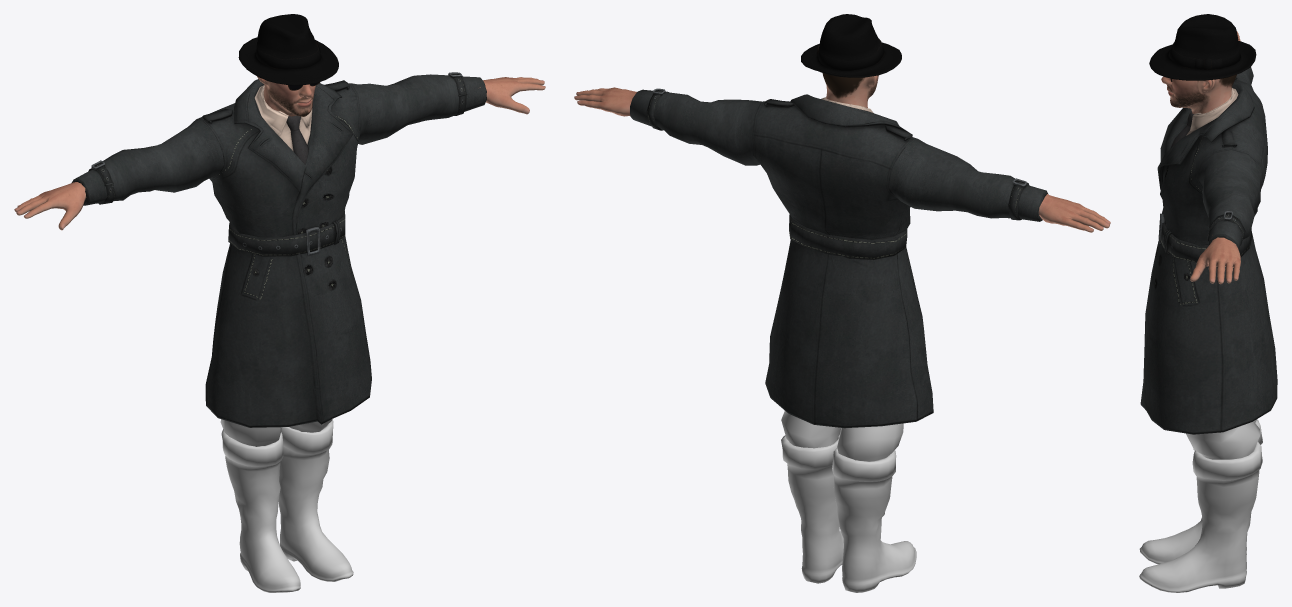
Rendered from chad_main.obj.
The picture shows the model from 3 angles, left to right: view 1: azimuth 30°, elevation 25°; view 2: azimuth 150°, elevation 25°; view 3: azimuth 270°, elevation 25°; orthographic projection.
Parts seen in each view (by area): view 1: Tops, Shoes, Hats, Body, Bottoms; view 2: Tops, Shoes, Hats, Body, Bottoms; view 3: Tops, Shoes, Hats, Body, Bottoms.
Part boxes in pixels (x1,y1,x2,y2): Tops: [71, 72, 486, 427]; Shoes: [221, 419, 353, 592]; Hats: [238, 14, 338, 85]; Body: [14, 76, 545, 230]; Bottoms: [220, 419, 332, 446]; Tops: [630, 88, 1047, 428]; Shoes: [781, 435, 916, 592]; Hats: [801, 14, 901, 77]; Body: [574, 73, 1110, 232]; Bottoms: [781, 411, 903, 461]; Tops: [1140, 67, 1277, 434]; Shoes: [1139, 419, 1262, 592]; Hats: [1149, 14, 1256, 80]; Body: [1161, 31, 1240, 284]; Bottoms: [1186, 419, 1259, 459].
Bounding box in the file's own units: 187 × 186 × 42.16.
